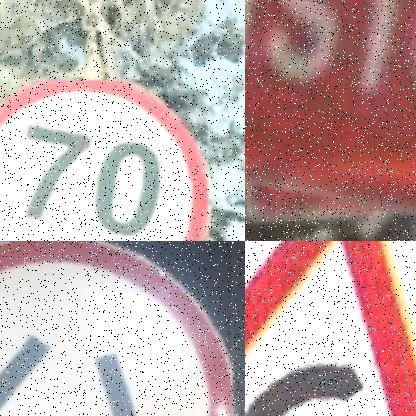Right bend: (245, 241, 416, 416)
Road Divides: (0, 242, 232, 416)
Speed Limit -70 kmph-: (0, 81, 206, 241)
